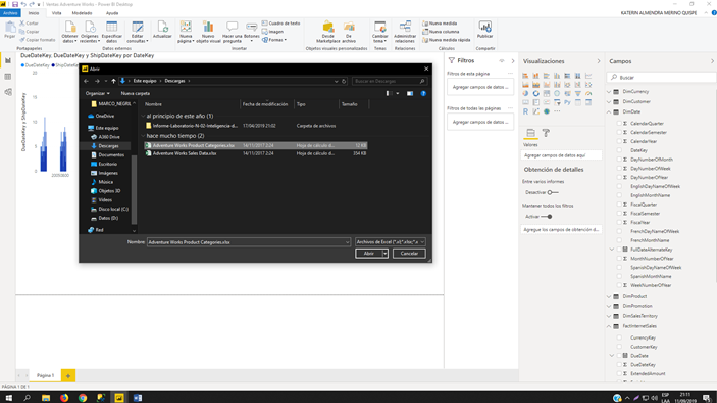

The page's visual inventory and layout, read from the dashboard file:
{"tool":"powerbi","page":{"name":"Página 1","canvas":[1280,720],"ordinal":0},"visuals":[{"type":"clusteredColumnChart","fields":{"Y":["CountNonNull(FactInternetSales.DueDateKey)","CountNonNull(FactInternetSales.DueDateKey)","CountNonNull(FactInternetSales.ShipDateKey)"],"Category":["DimDate.DateKey"]},"box":[10.1,0,450.9,398.3],"z":0},{"type":"clusteredColumnChart","fields":{"Y":["CountNonNull(DimProductSubcategory.CategoryKey)","CountNonNull(DimProductCategory.CategoryKey)"]},"box":[461,0,483.4,360.3],"z":1000}]}

Visuals, with their boxes on the page's 1280x720 design canvas (x1, y1, x2, y2). These are canvas units, not pixel positions in the 717x403 screenshot, which may show the page scaled, cropped or inside an application window:
clusteredColumnChart - CountNonNull(FactInternetSales.DueDateKey) x CountNonNull(FactInternetSales.DueDateKey): {"left": 10, "top": 0, "right": 461, "bottom": 398}
clusteredColumnChart - CountNonNull(DimProductSubcategory.CategoryKey) x CountNonNull(DimProductCategory.CategoryKey): {"left": 461, "top": 0, "right": 944, "bottom": 360}
